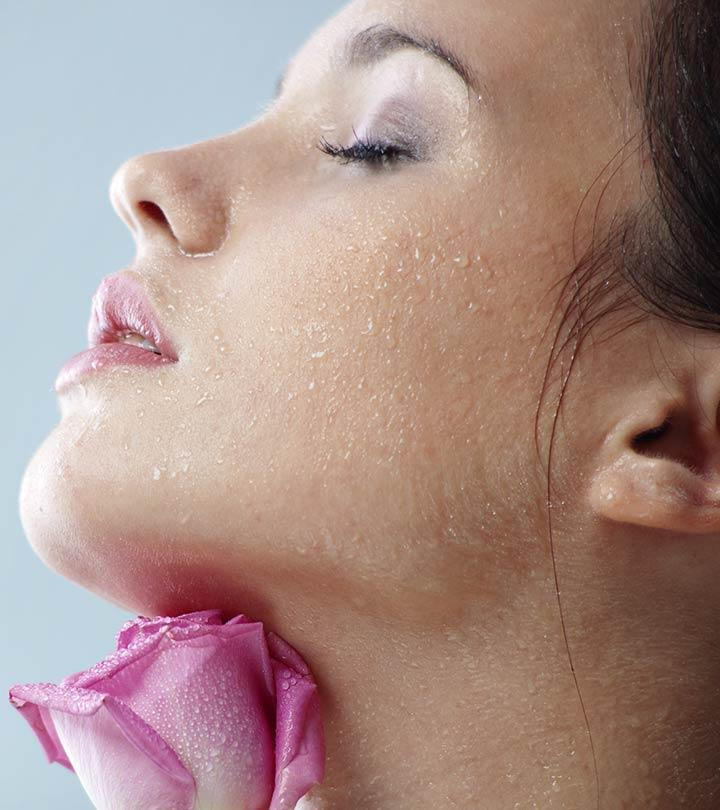Dry-Skin: (246, 183, 559, 565)
